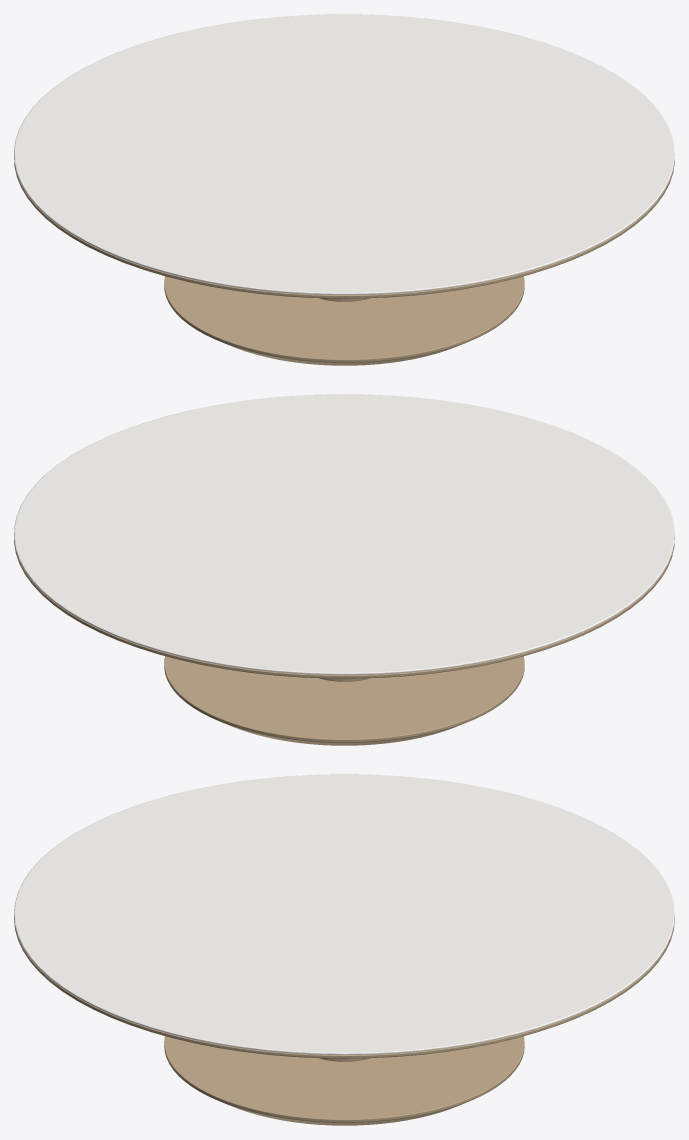
The model's file is orbit_d110h26_proposta.glb.
3 renders of one model, top to bottom at view 1: azimuth 30°, elevation 25°; view 2: azimuth 150°, elevation 25°; view 3: azimuth 270°, elevation 25°, orthographic.
Visible parts, largest first — view 1: Top Orbit Coffee Table 032, Base Orbit Coffee Table 032, Undertop Orbit Coffee Table 032; view 2: Top Orbit Coffee Table 032, Base Orbit Coffee Table 032, Undertop Orbit Coffee Table 032; view 3: Top Orbit Coffee Table 032, Base Orbit Coffee Table 032, Undertop Orbit Coffee Table 032.
Part boxes in pixels (bbox=[...]): Top Orbit Coffee Table 032: bbox=[14, 14, 674, 295]; Base Orbit Coffee Table 032: bbox=[164, 276, 524, 365]; Undertop Orbit Coffee Table 032: bbox=[14, 157, 674, 298]; Top Orbit Coffee Table 032: bbox=[14, 394, 674, 675]; Base Orbit Coffee Table 032: bbox=[164, 656, 524, 745]; Undertop Orbit Coffee Table 032: bbox=[14, 537, 674, 678]; Top Orbit Coffee Table 032: bbox=[14, 774, 674, 1055]; Base Orbit Coffee Table 032: bbox=[164, 1036, 524, 1125]; Undertop Orbit Coffee Table 032: bbox=[14, 917, 674, 1058].
Bounding box in the file's own units: 1.1 × 0.264 × 1.1.
